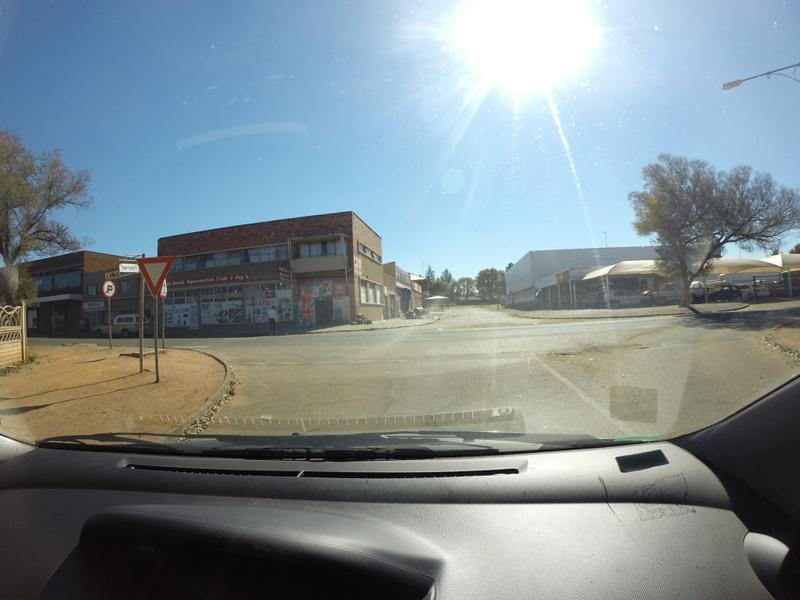pothole: (552, 344, 658, 360)
